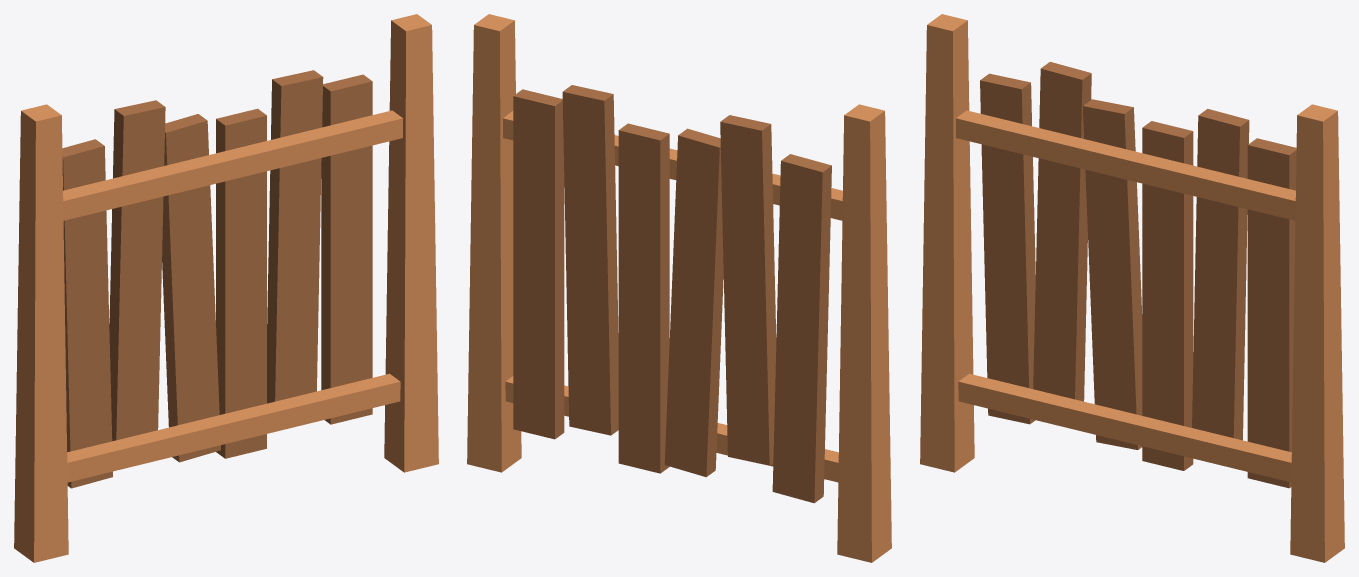
File: fenceFortified.fbx
3 renders of one model, left to right at view 1: azimuth 30°, elevation 25°; view 2: azimuth 150°, elevation 25°; view 3: azimuth 330°, elevation 25°, orthographic.
Parts seen in each view (by area): view 1: fenceFortified; view 2: fenceFortified; view 3: fenceFortified.
Boxes of the visible parts, <box> form: fenceFortified: <box>14,14,438,562</box>; fenceFortified: <box>467,14,891,562</box>; fenceFortified: <box>920,14,1344,562</box>.
Size of the model in its own units: 20 by 20.7 by 2.12.
